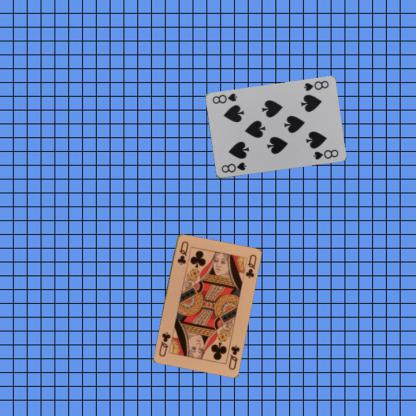8s: (218, 160, 248, 175), (301, 78, 330, 92)
Qc: (174, 238, 190, 266), (226, 342, 241, 371)
